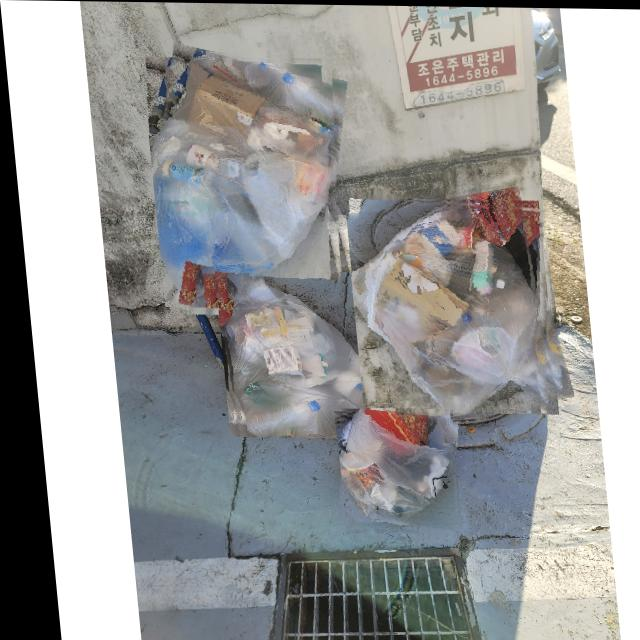other_trashbag: (150, 52, 333, 306), (347, 200, 543, 410), (218, 275, 367, 437), (330, 408, 447, 522)
